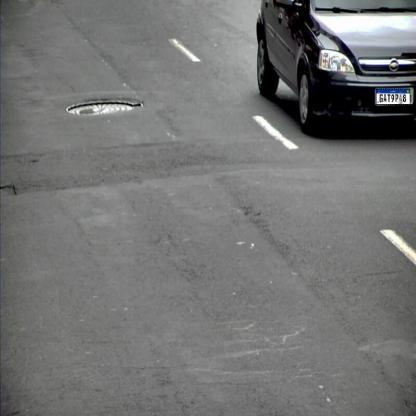PlacaM: (376, 89, 410, 104)
